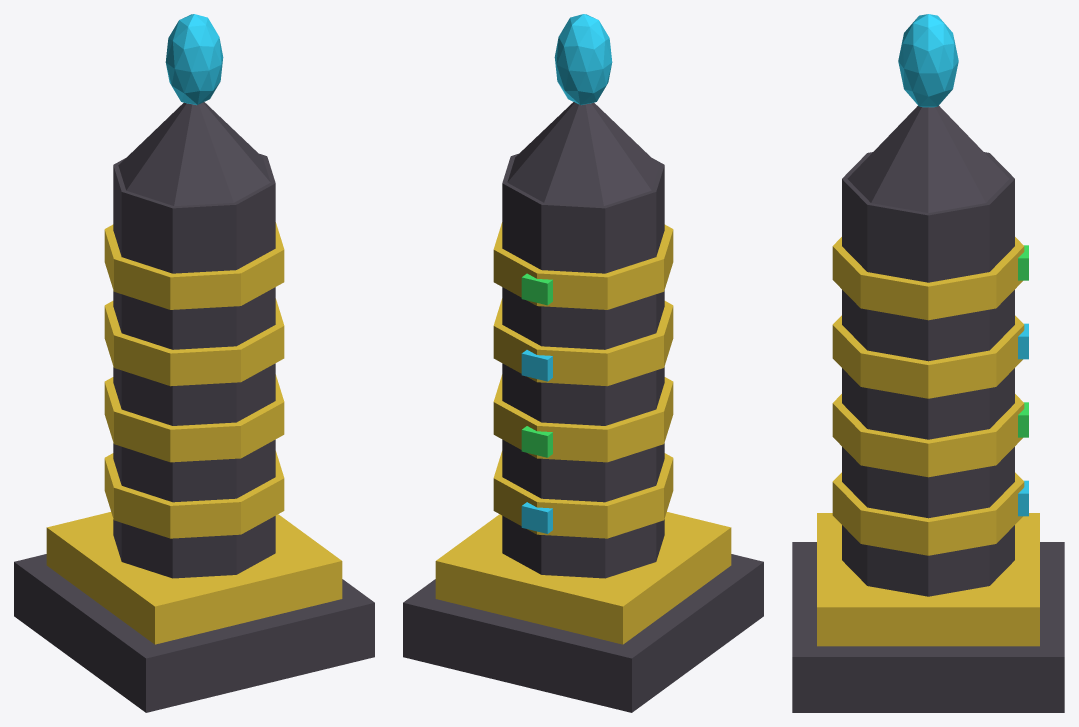
File: puzzle_rune_pillar.obj
3 renders of one model, left to right at view 1: azimuth 30°, elevation 25°; view 2: azimuth 150°, elevation 25°; view 3: azimuth 270°, elevation 25°, orthographic. The views are drawn at different scales.
Visible parts, largest first — view 1: Cylinder, Cube, Cube.001, Cone, Cylinder.004, Cylinder.002, Cylinder.003, Cylinder.001, Icosphere; view 2: Cylinder, Cube, Cube.001, Cone, Cylinder.004, Cylinder.002, Cylinder.003, Cylinder.001, Icosphere, Cube.005, Cube.003, Cube.004 (+1 smaller); view 3: Cylinder, Cube, Cube.001, Cone, Cylinder.001, Cylinder.003, Cylinder.002, Cylinder.004, Icosphere.
Boxes of the visible parts, x1,y1,x2,y2 form: Cylinder: (113, 153, 275, 578); Cube: (14, 554, 374, 712); Cube.001: (46, 512, 342, 644); Cone: (118, 102, 270, 206); Cylinder.004: (104, 222, 284, 309); Cylinder.002: (104, 374, 284, 462); Cylinder.003: (104, 298, 284, 386); Cylinder.001: (104, 451, 284, 538); Icosphere: (165, 14, 223, 105); Cylinder: (502, 153, 664, 578); Cube: (403, 554, 763, 712); Cube.001: (435, 512, 731, 644); Cone: (507, 102, 659, 206); Cylinder.004: (493, 222, 673, 309); Cylinder.002: (493, 374, 673, 462); Cylinder.003: (493, 298, 673, 386); Cylinder.001: (493, 451, 673, 538); Icosphere: (554, 14, 612, 105); Cube.005: (521, 273, 552, 305); Cube.003: (521, 426, 552, 457); Cube.004: (521, 350, 552, 381); Cylinder: (842, 152, 1014, 596); Cube: (792, 542, 1064, 712); Cube.001: (817, 513, 1039, 646); Cone: (847, 106, 1009, 212); Cylinder.001: (832, 472, 1024, 555); Cylinder.003: (832, 315, 1024, 398); Cylinder.002: (832, 394, 1024, 477); Cylinder.004: (832, 237, 1024, 320); Icosphere: (898, 14, 958, 107).
Size of the model in its own units: 4.4 by 11.44 by 4.4.
